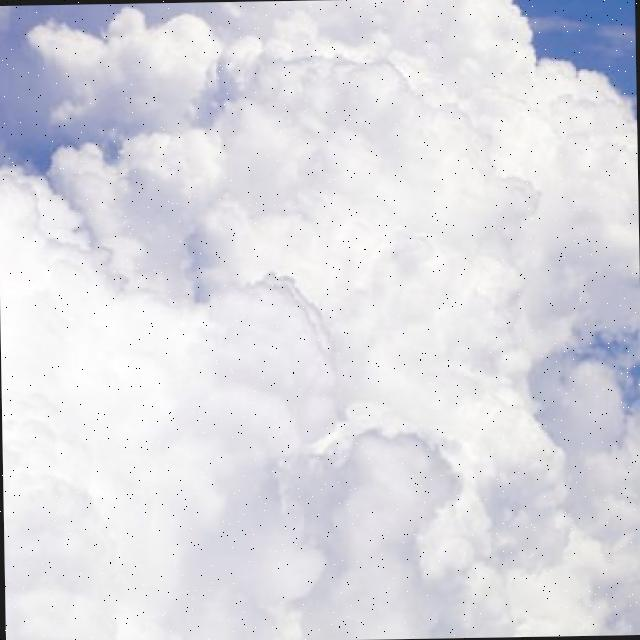As: (1, 13, 640, 640)
